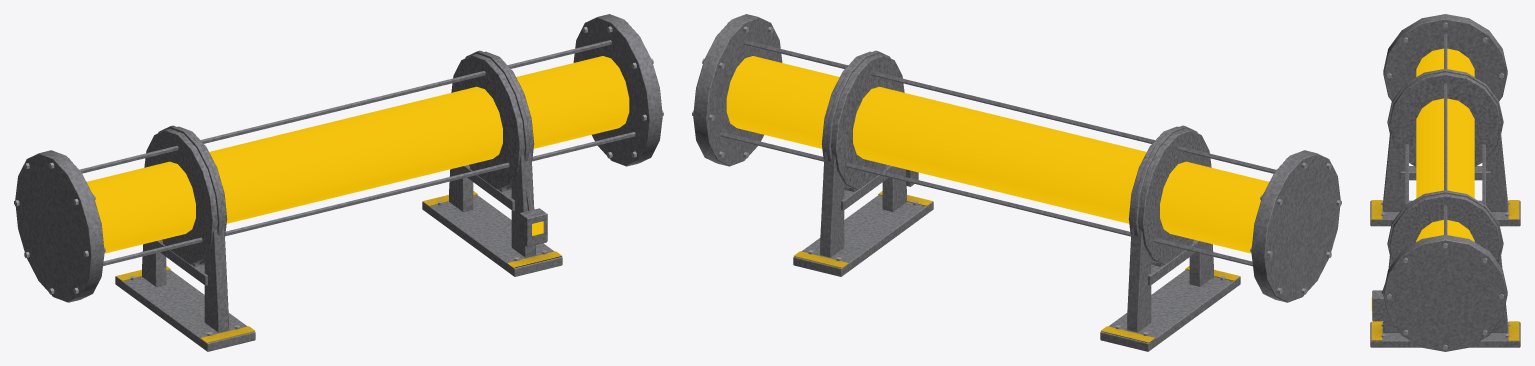
The model's file is nodexeus-pipe.glb.
3 views of the same model, side by side, from view 1: azimuth 30°, elevation 25°; view 2: azimuth 150°, elevation 25°; view 3: azimuth 270°, elevation 25° (orthographic). The views are drawn at different scales.
Visible parts, largest first — view 1: pipe; view 2: pipe; view 3: pipe.
Part boxes in pixels (x1,y1,x2,y2): pipe: [14, 14, 663, 351]; pipe: [692, 14, 1341, 351]; pipe: [1370, 14, 1520, 351].
Size of the model in its own units: 8.28 by 2.55 by 2.3.
1 material, 1 textured.
